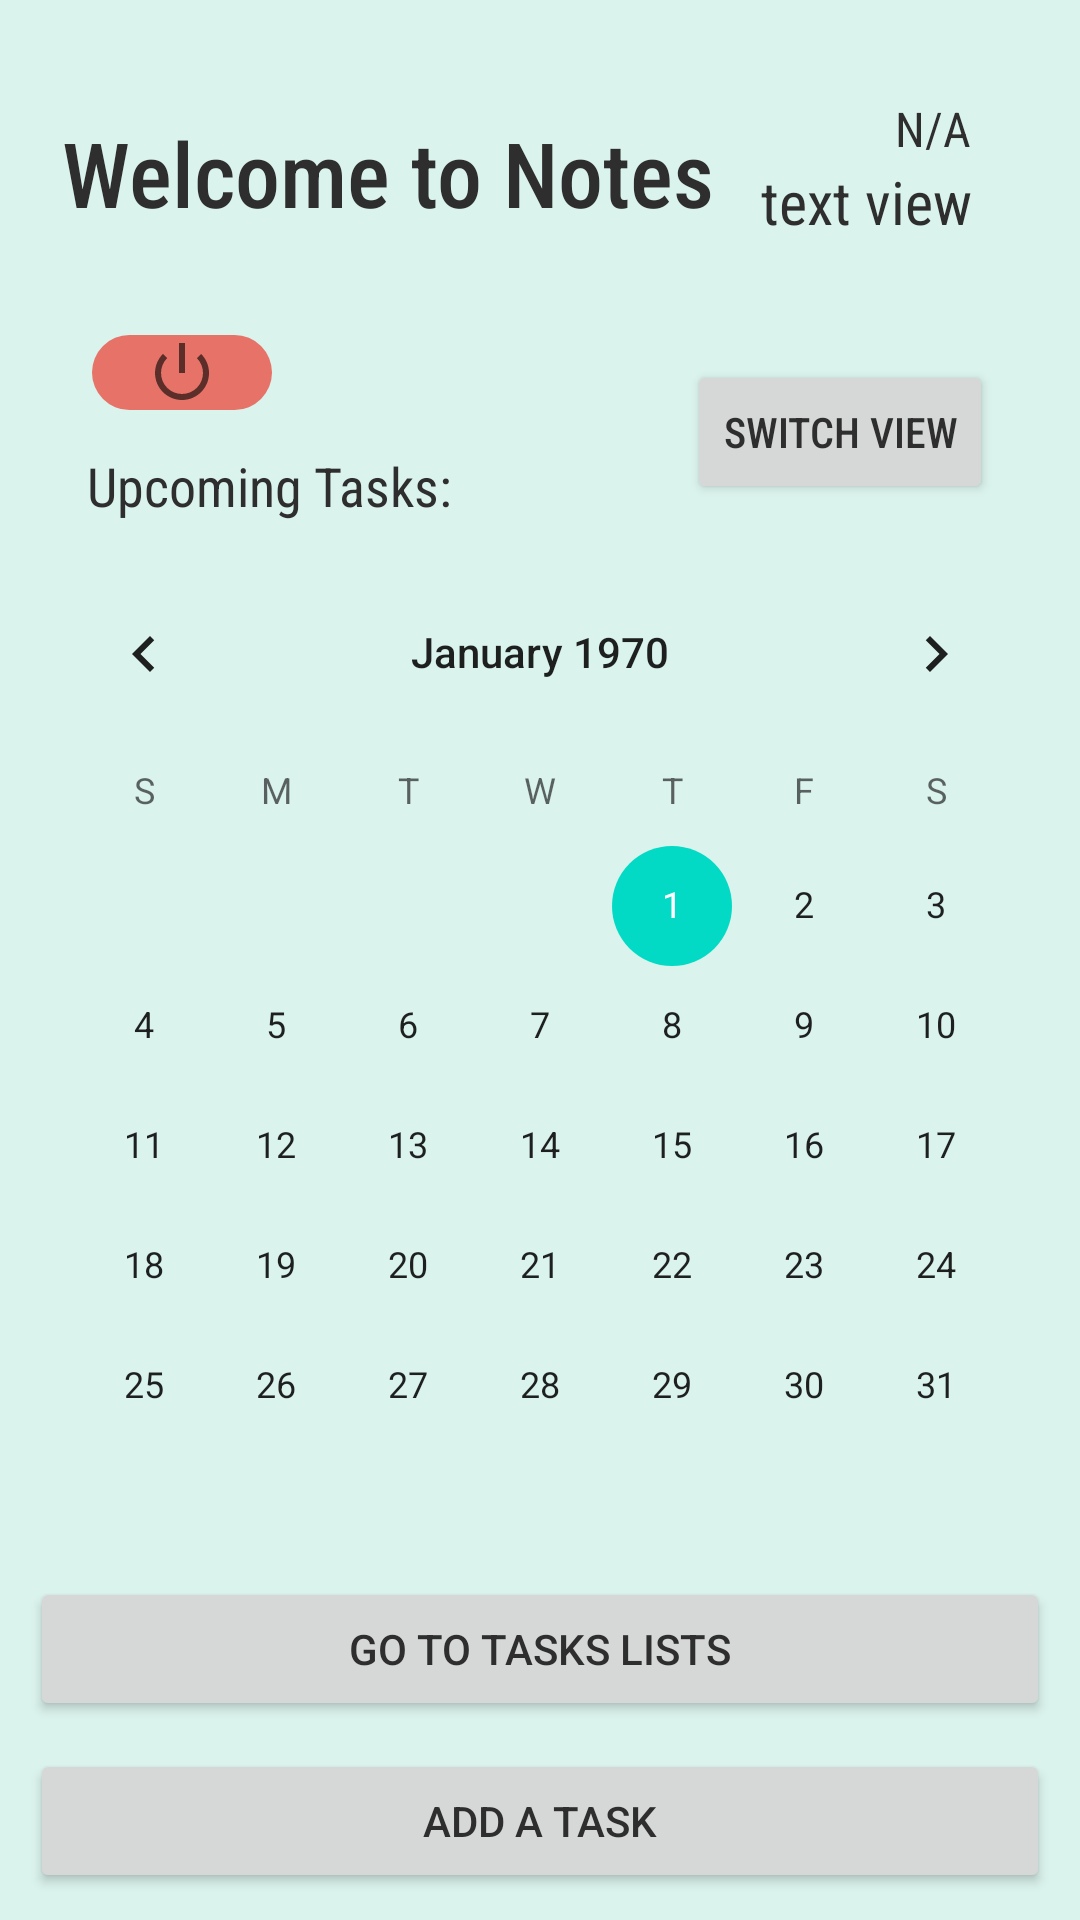

Named icons in this screenshot (1080 × 1920) and their centers, point (x, y):
lock power off: point (182, 372)
